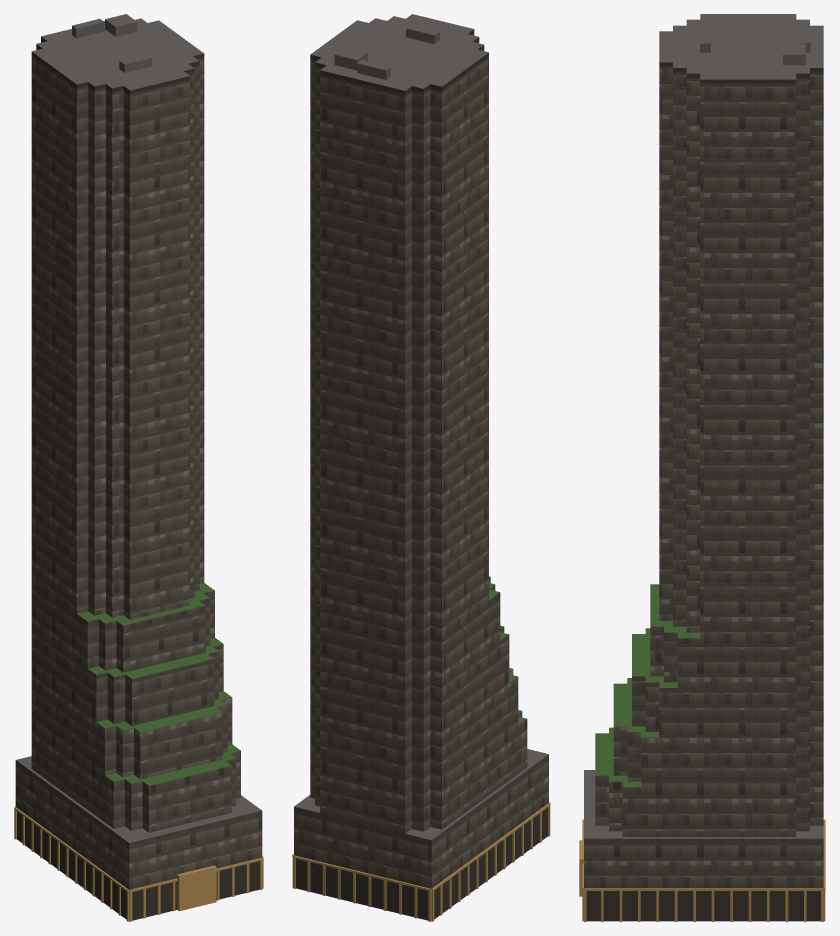
The model's file is trump_tower.glb.
3 views of the same model, side by side, from view 1: azimuth 30°, elevation 25°; view 2: azimuth 150°, elevation 25°; view 3: azimuth 270°, elevation 25° (orthographic). The views are drawn at different scales.
Parts seen in each view (by area): view 1: trump_tower; view 2: trump_tower; view 3: trump_tower.
Boxes of the visible parts, x1,y1,x2,y2 form: trump_tower: (14, 14, 263, 921); trump_tower: (292, 14, 550, 921); trump_tower: (579, 14, 825, 921).
Size of the model in its own units: 36.31 by 206 by 53.9.
2 materials, 2 textured.
